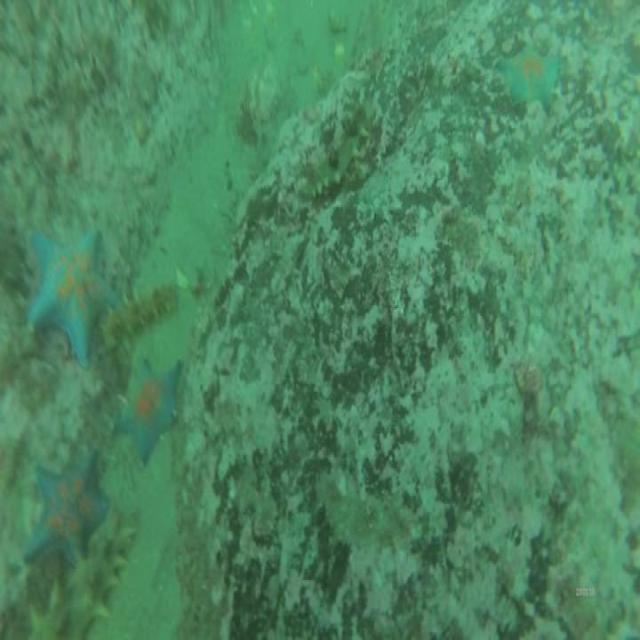holothurian: (26, 515, 130, 635), (300, 103, 376, 202), (103, 286, 180, 346)
starfish: (28, 229, 114, 365), (24, 455, 106, 556), (118, 360, 182, 463), (499, 43, 559, 101)
